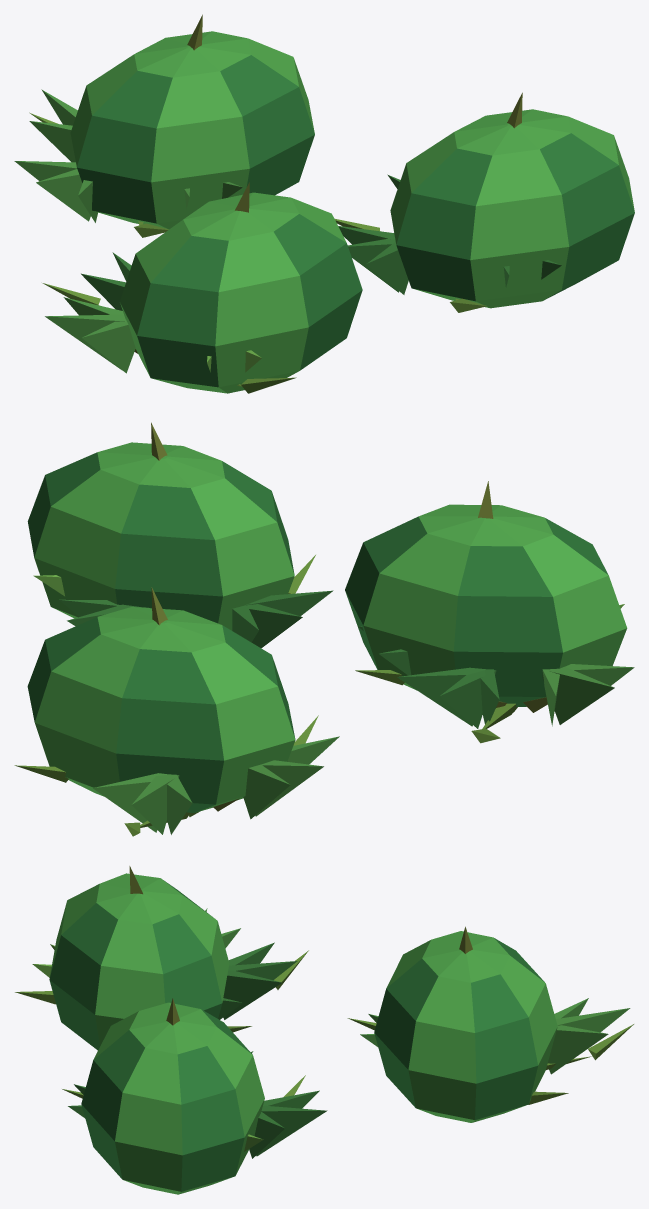
Rendered from watermelon-4.glb.
3 views of the same model, one above another, from view 1: azimuth 30°, elevation 25°; view 2: azimuth 150°, elevation 25°; view 3: azimuth 270°, elevation 25° (orthographic). The views are drawn at different scales.
Parts seen in each view (by area): view 1: watermelon-4; view 2: watermelon-4; view 3: watermelon-4.
Part boxes in pixels (left/top/right/bottom): watermelon-4: left=14, top=14, right=634, bottom=393; watermelon-4: left=14, top=422, right=634, bottom=836; watermelon-4: left=15, top=866, right=633, bottom=1194.
Bounding box in the file's own units: 0.7544 × 0.25 × 0.7754.
Materials: 1 (1 with a texture image).
